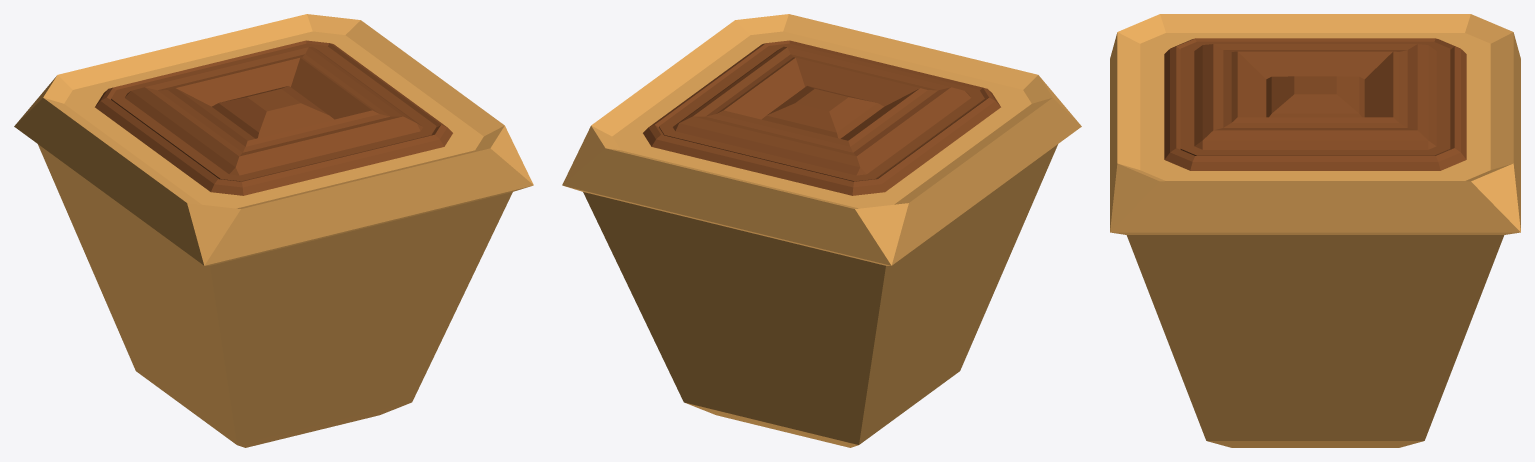
File: FlowerPot1.fbx
3 renders of one model, left to right at view 1: azimuth 30°, elevation 25°; view 2: azimuth 150°, elevation 25°; view 3: azimuth 270°, elevation 25°, orthographic. The views are drawn at different scales.
Visible parts, largest first — view 1: Pot_1; view 2: Pot_1; view 3: Pot_1.
Boxes of the visible parts, bbox=[...] form: Pot_1: bbox=[14, 14, 533, 447]; Pot_1: bbox=[562, 14, 1081, 447]; Pot_1: bbox=[1110, 14, 1520, 447].
Size of the model in its own units: 326 by 287 by 326.
